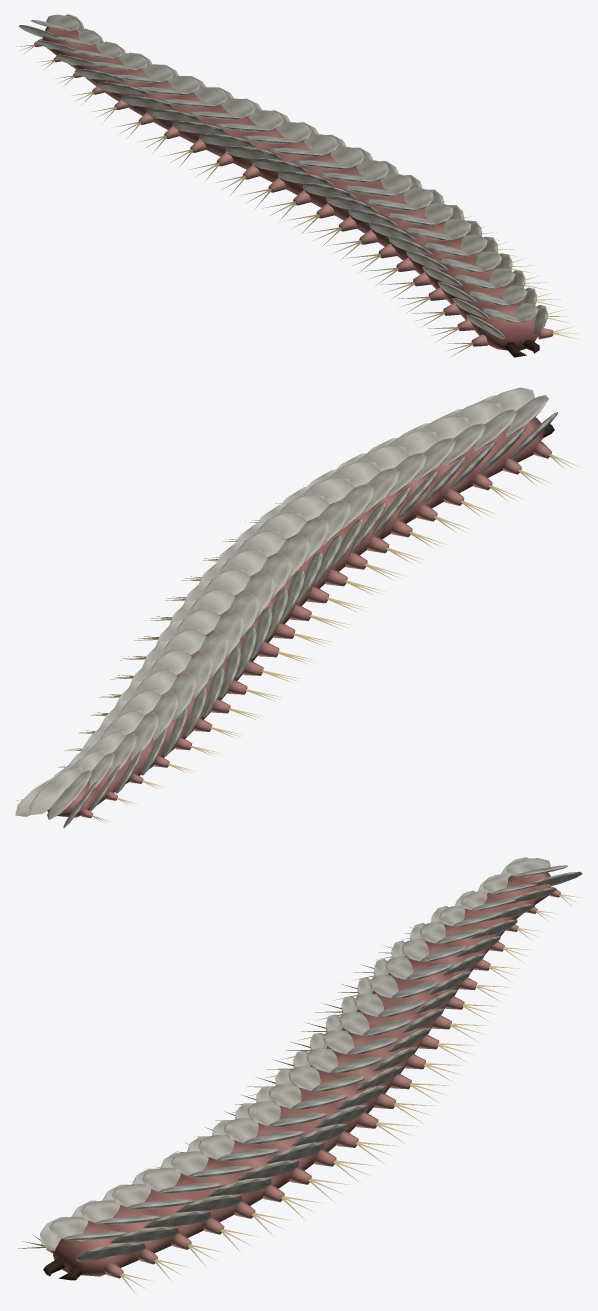
File: PlumulitesBengtsoni.fbx
3 views of the same model, one above another, from view 1: azimuth 30°, elevation 25°; view 2: azimuth 150°, elevation 25°; view 3: azimuth 330°, elevation 25° (orthographic). The views are drawn at different scales.
Visible parts, largest first — view 1: PlumulitesBengtsoni; view 2: PlumulitesBengtsoni; view 3: PlumulitesBengtsoni.
Part boxes in pixels (x1,y1,x2,y2): PlumulitesBengtsoni: (16,14,580,357); PlumulitesBengtsoni: (15,387,580,827); PlumulitesBengtsoni: (18,857,582,1294).
Bounding box in the file's own units: 0.4536 × 0.1158 × 1.89.
